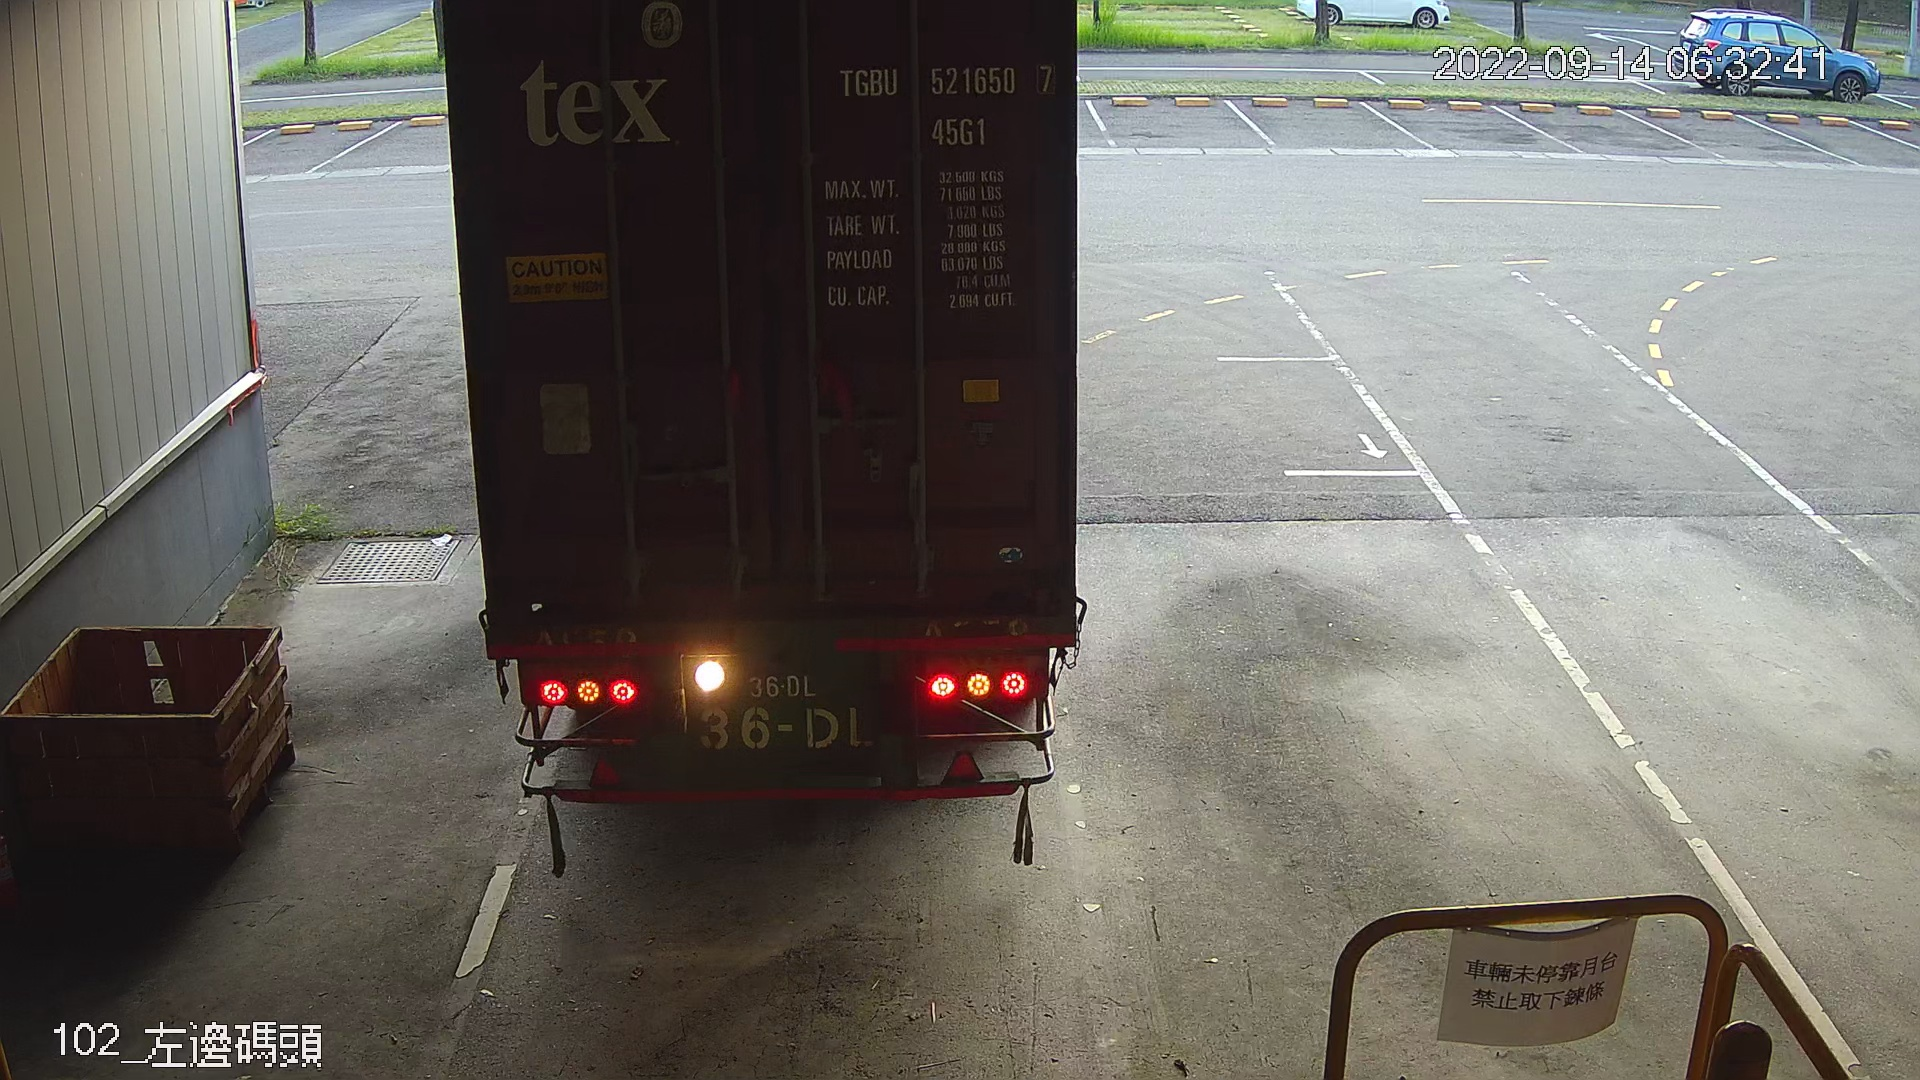container: (825, 51, 1062, 154)
